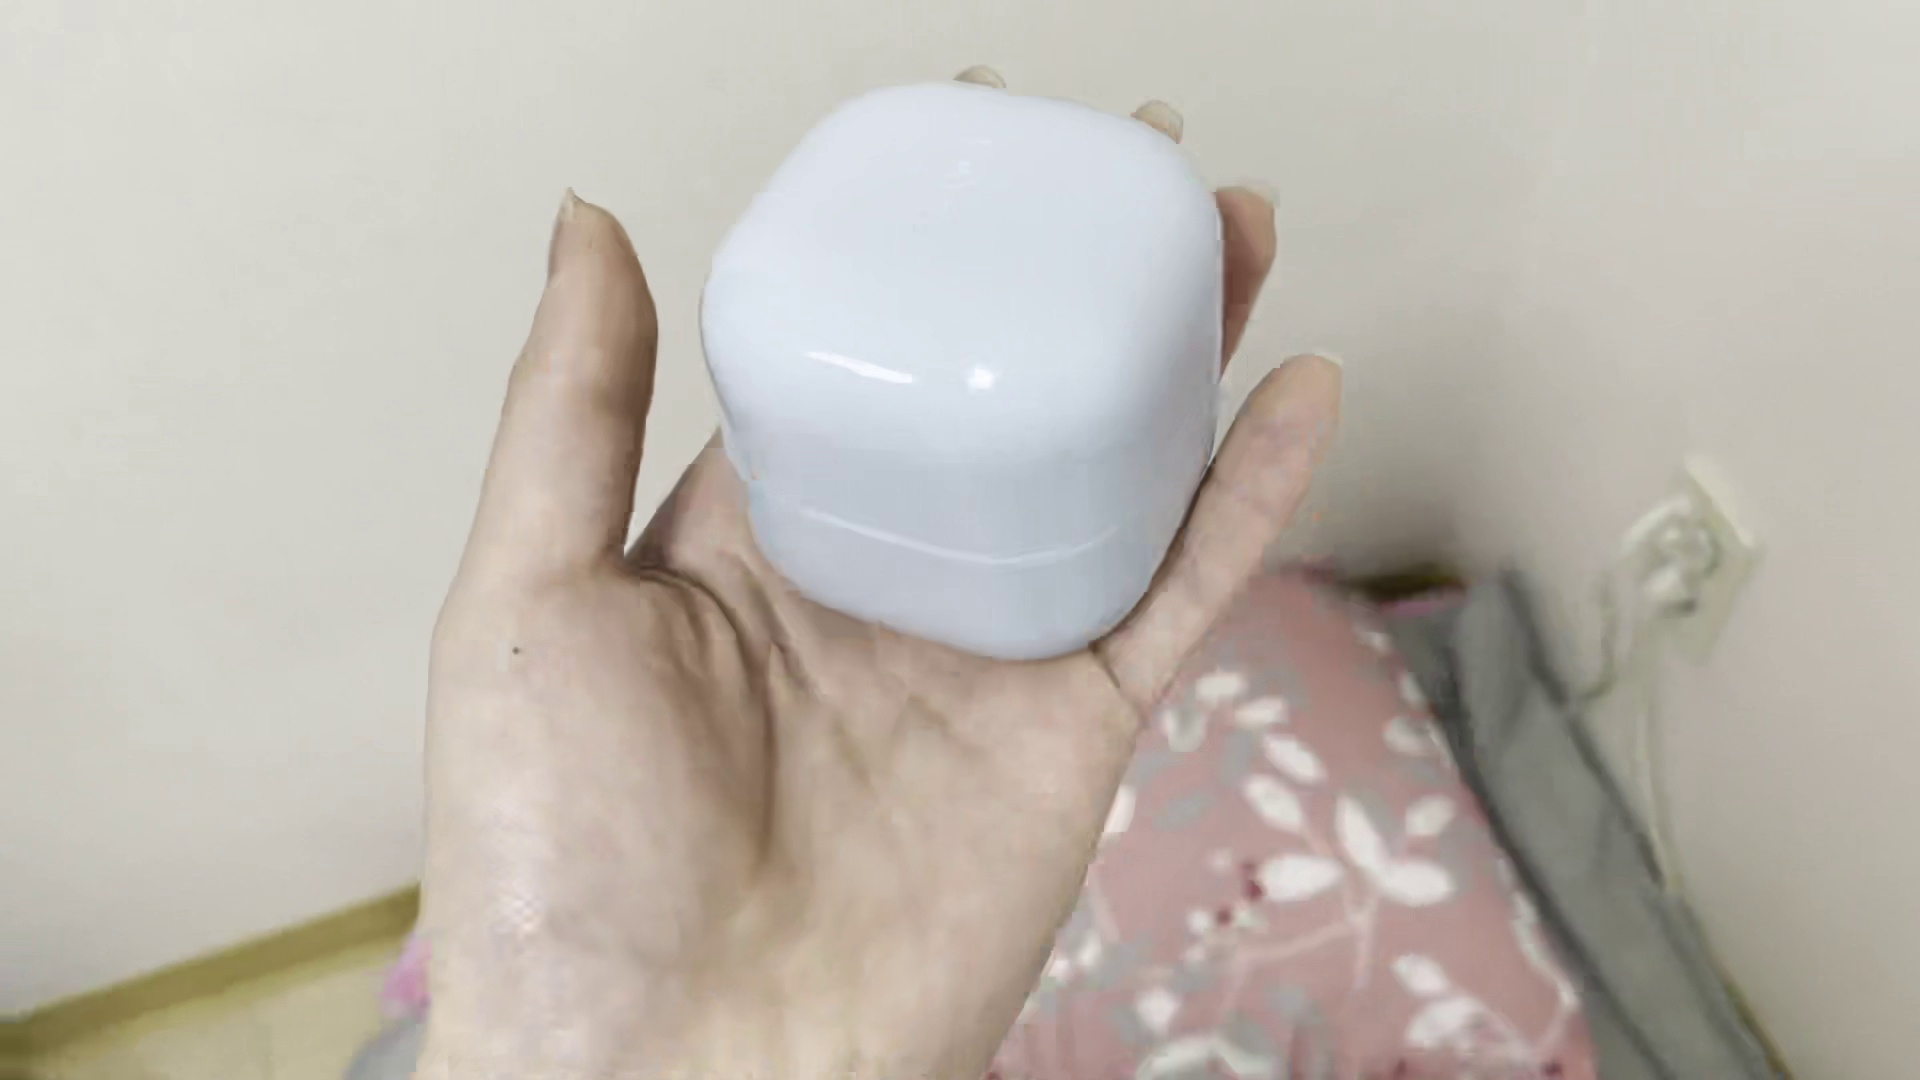cream: (698, 78, 1226, 658)
